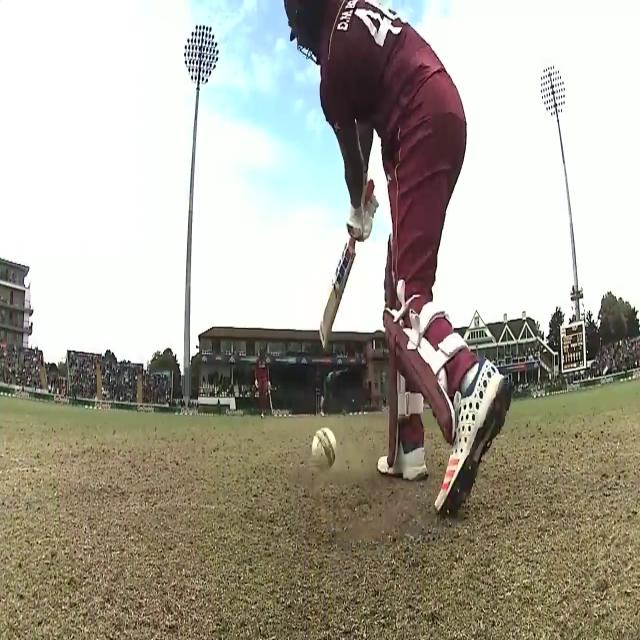ball: (308, 420, 340, 476)
